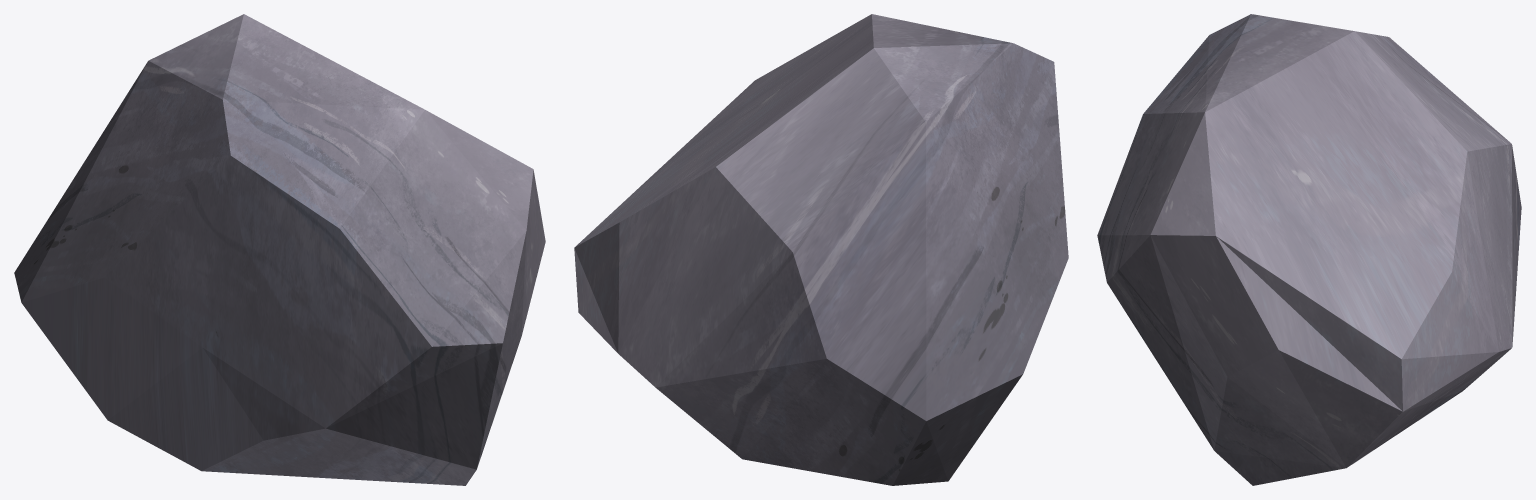
Rendered from rock_2_018.fbx.
The picture shows the model from 3 angles, left to right: view 1: azimuth 30°, elevation 25°; view 2: azimuth 150°, elevation 25°; view 3: azimuth 270°, elevation 25°; orthographic projection. The views are drawn at different scales.
Visible parts, largest first — view 1: rock 2.018; view 2: rock 2.018; view 3: rock 2.018.
Part boxes in pixels (<box>): rock 2.018: <box>14,14,545,485</box>; rock 2.018: <box>574,14,1068,485</box>; rock 2.018: <box>1097,14,1521,485</box>.
Size of the model in its own units: 272 by 257 by 254.
